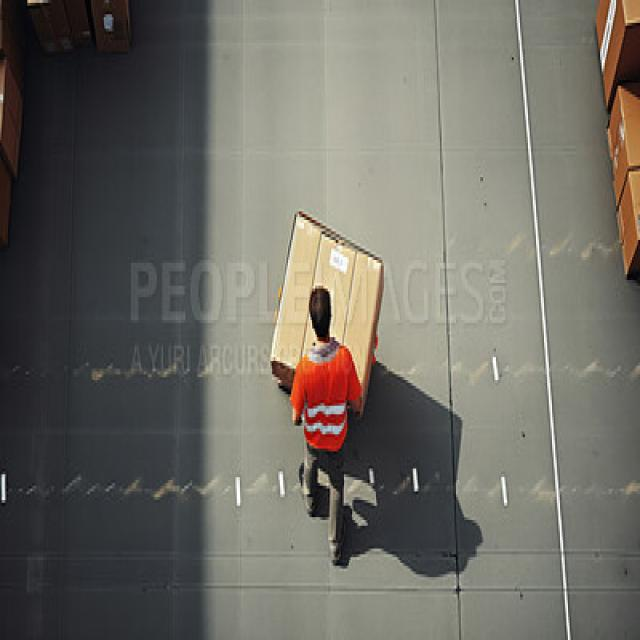box: (273, 188, 392, 435)
